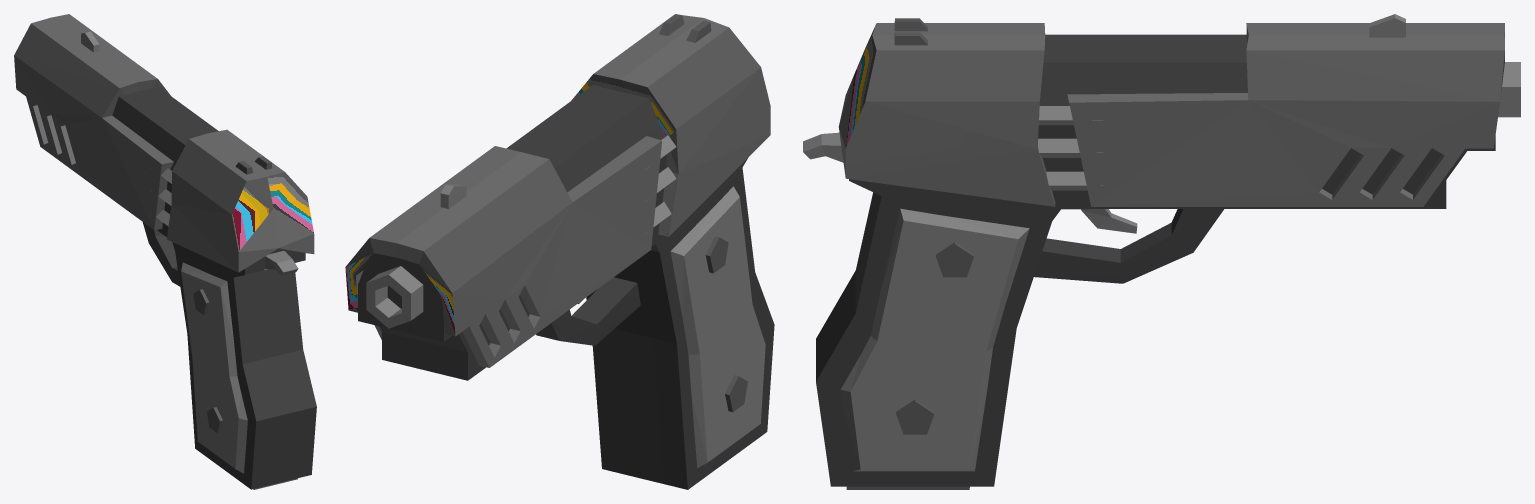
File: pistol_3.glb
3 renders of one model, left to right at view 1: azimuth 30°, elevation 25°; view 2: azimuth 150°, elevation 25°; view 3: azimuth 270°, elevation 25°, orthographic. The views are drawn at different scales.
Visible parts, largest first — view 1: pistol_3; view 2: pistol_3; view 3: pistol_3.
Part boxes in pixels (x1,y1,x2,y2): pistol_3: [14, 14, 316, 489]; pistol_3: [345, 14, 774, 489]; pistol_3: [803, 14, 1520, 486].
Size of the model in its own units: 0.21 by 0.8072 by 1.15.
1 material, 1 textured.
